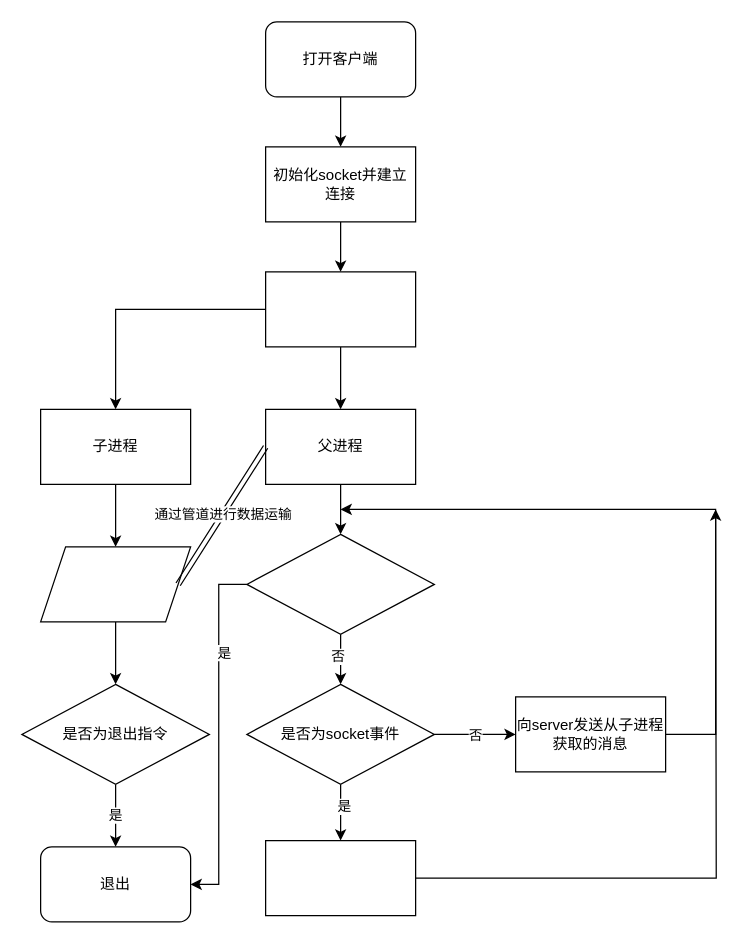
The diagram is 749 pixels wide and 944 high, and some of its shapes have lost their labels. The box of each missing label's shape, as (x1, y1, x2, y2) in pixels:
epoll_wait是否为空: (246, 533, 434, 634)
初始化epoll: (264, 271, 416, 347)
接受socket传输消息并回显: (264, 839, 416, 916)
获取用户输入: (39, 546, 191, 622)
